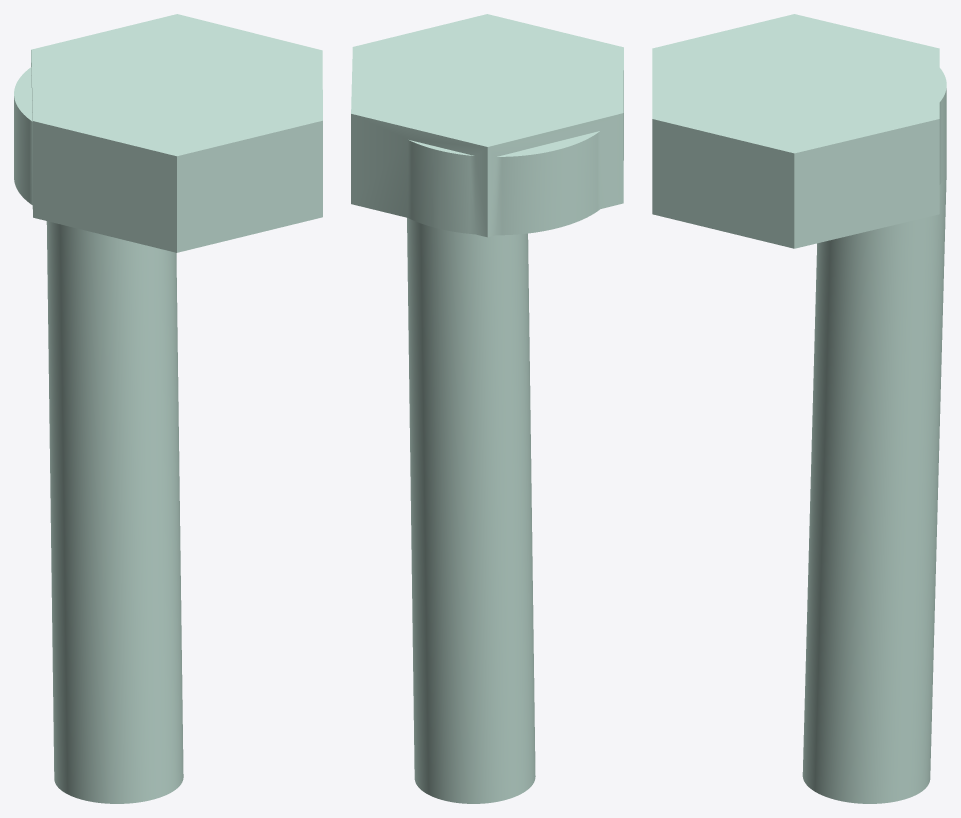
3 views of the same model, side by side, from view 1: azimuth 30°, elevation 25°; view 2: azimuth 150°, elevation 25°; view 3: azimuth 270°, elevation 25° (orthographic). The views are drawn at different scales.
Visible parts, largest first — view 1: Renderer Node; view 2: Renderer Node; view 3: Renderer Node.
Part boxes in pixels (left/top/right/bottom): Renderer Node: left=14, top=14, right=322, bottom=803; Renderer Node: left=351, top=14, right=623, bottom=803; Renderer Node: left=652, top=14, right=946, bottom=803.
Bounding box in the file's own units: 0.3675 × 0.867 × 0.3281.
